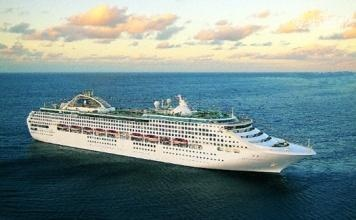youlun: (19, 86, 318, 172)
